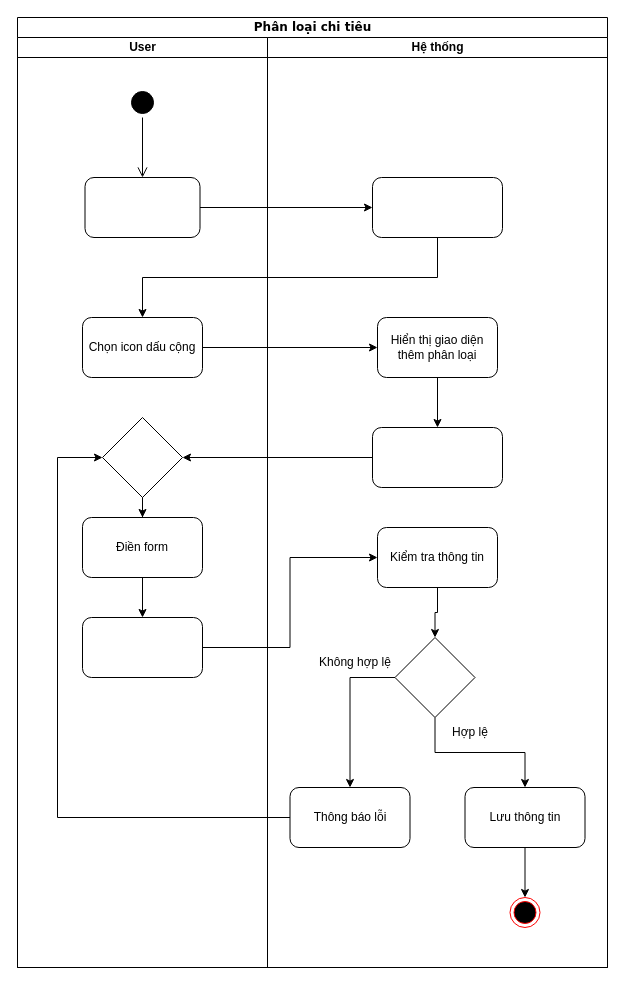
This 625x985 diagram has some shape labels left out. The centre of each missing label's shape, as x and y in pixels:
Chọn icon tick: the point at 142,647
Chọn mục "Phân loại chi tiêu": the point at 142,207
Hiển thị form phân loại: the point at 437,457
Hệ thống hiển giao diện thị phân loại chi tiêu: the point at 437,207
